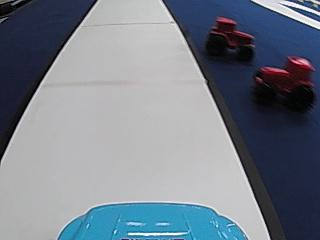Tracktor: (253, 51, 315, 112), (205, 15, 256, 60)
